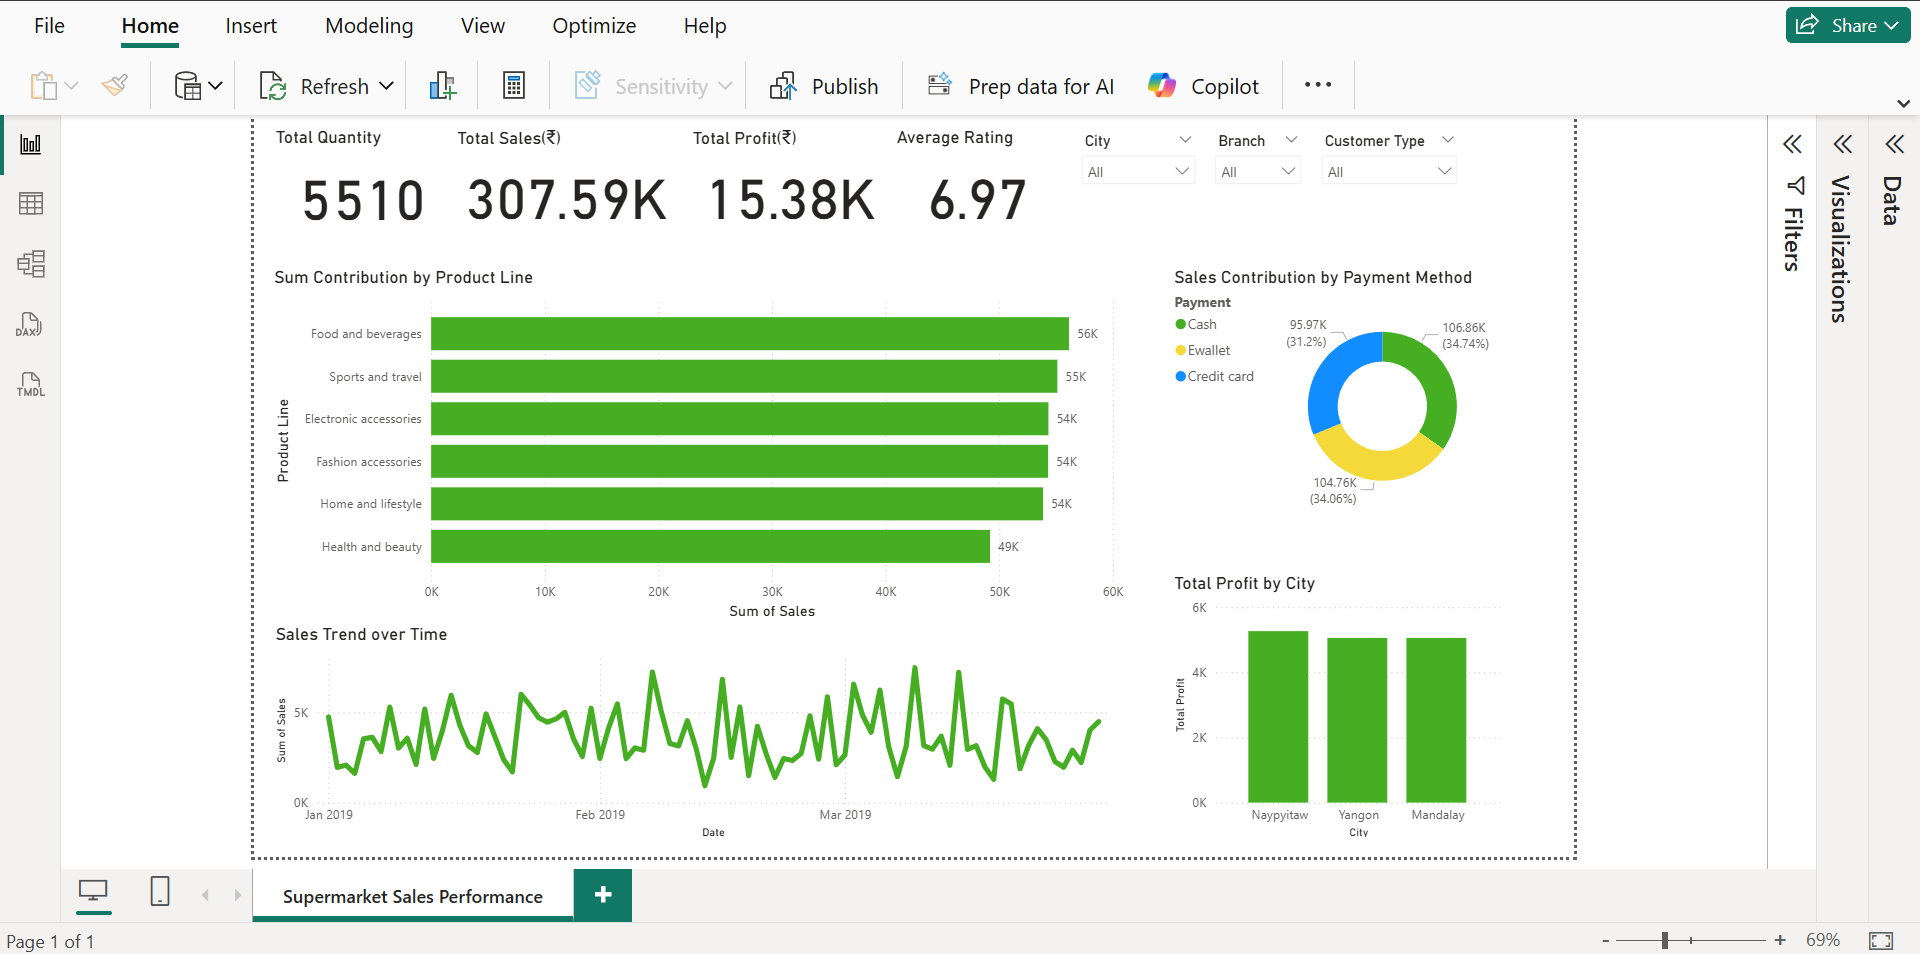

Layout of this report page (visuals, bound fields, positions):
{"tool":"powerbi","page":{"name":"Supermarket Sales Performance","canvas":[1280,720],"ordinal":0},"visuals":[{"type":"card","title":"Total Sales(₹)","fields":{"Values":["SuperMarket Analysis.Total Sales"]},"box":[192.2,10.9,221.9,106.2],"z":0},{"type":"card","title":"Total Profit(₹)","fields":{"Values":["SuperMarket Analysis.Total Profit"]},"box":[420.3,10.9,198.4,106.2],"z":1000},{"type":"card","title":"Total Quantity","fields":{"Values":["SuperMarket Analysis.Total Quantity"]},"box":[15.6,10.9,176.6,109.4],"z":2000},{"type":"card","title":"Average Rating","fields":{"Values":["SuperMarket Analysis.Average Rating"]},"box":[618.8,10.9,165.6,106.2],"z":3000},{"type":"barChart","title":"Sum Contribution by Product Line","fields":{"Category":["SuperMarket Analysis.Product Line"],"Y":["Sum(SuperMarket Analysis.Sales)"]},"box":[15.1,146.9,834.3,346.8],"z":4000},{"type":"columnChart","fields":{"Category":["SuperMarket Analysis.City"],"Y":["SuperMarket Analysis.Total Profit"]},"box":[887.3,443.7,327.1,262],"z":5000},{"type":"lineChart","title":"Sales Trend over Time","fields":{"Y":["Sum(SuperMarket Analysis.Sales)"],"Category":["SuperMarket Analysis.Date"]},"box":[15.6,493.8,834.4,212.5],"z":6000},{"type":"donutChart","title":"Sales Contribution by Payment Method","fields":{"Category":["SuperMarket Analysis.Payment"],"Y":["SuperMarket Analysis.Total Sales"]},"box":[887.3,146.9,327.1,251.4],"z":7000},{"type":"slicer","fields":{"Values":["SuperMarket Analysis.City"]},"box":[793.8,10.9,129.7,71.9],"z":8000},{"type":"slicer","fields":{"Values":["SuperMarket Analysis.Branch"]},"box":[923.4,10.9,103.1,67.2],"z":9000},{"type":"slicer","fields":{"Values":["SuperMarket Analysis.Customer Type"]},"box":[1026.6,10.9,151.6,68.8],"z":10000}]}

Visuals, with their boxes on the page's 1280x720 design canvas (x1, y1, x2, y2). These are canvas units, not pixel positions in the 1920x954 screenshot, which may show the page scaled, cropped or inside an application window:
"Total Sales(₹)" card: (192,11,414,117)
"Total Profit(₹)" card: (420,11,619,117)
"Total Quantity" card: (16,11,192,120)
"Average Rating" card: (619,11,784,117)
"Sum Contribution by Product Line" barChart: (15,147,849,494)
columnChart - SuperMarket Analysis.City x SuperMarket Analysis.Total Profit: (887,444,1214,706)
"Sales Trend over Time" lineChart: (16,494,850,706)
"Sales Contribution by Payment Method" donutChart: (887,147,1214,398)
slicer - SuperMarket Analysis.City: (794,11,924,83)
slicer - SuperMarket Analysis.Branch: (923,11,1026,78)
slicer - SuperMarket Analysis.Customer Type: (1027,11,1178,80)
